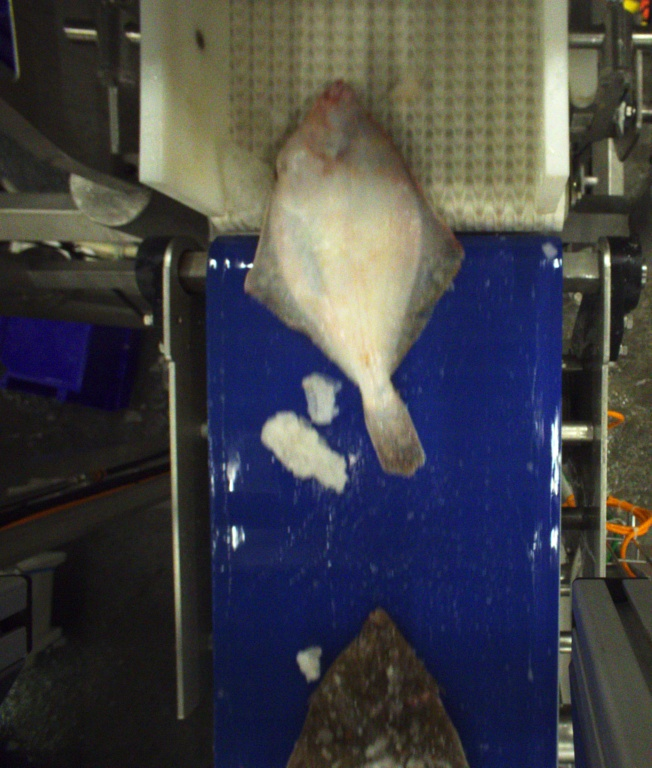PLE: (243, 80, 464, 479)
